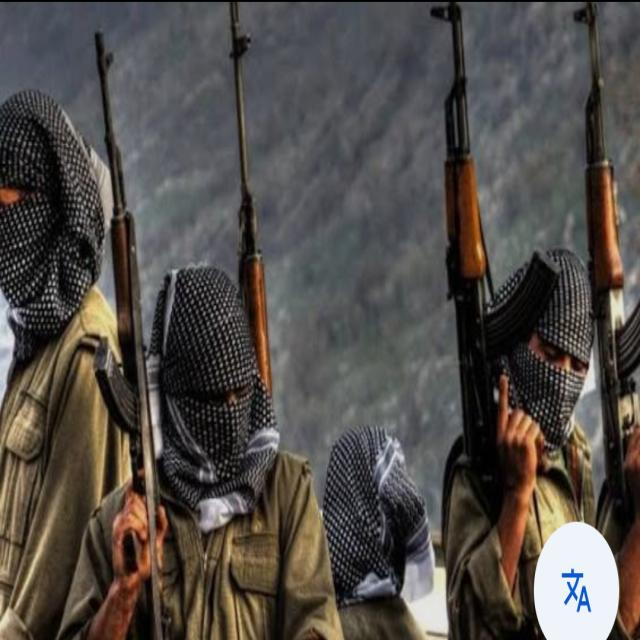Militant: (428, 59, 610, 640), (121, 223, 337, 640), (0, 76, 138, 640), (314, 399, 444, 640)
